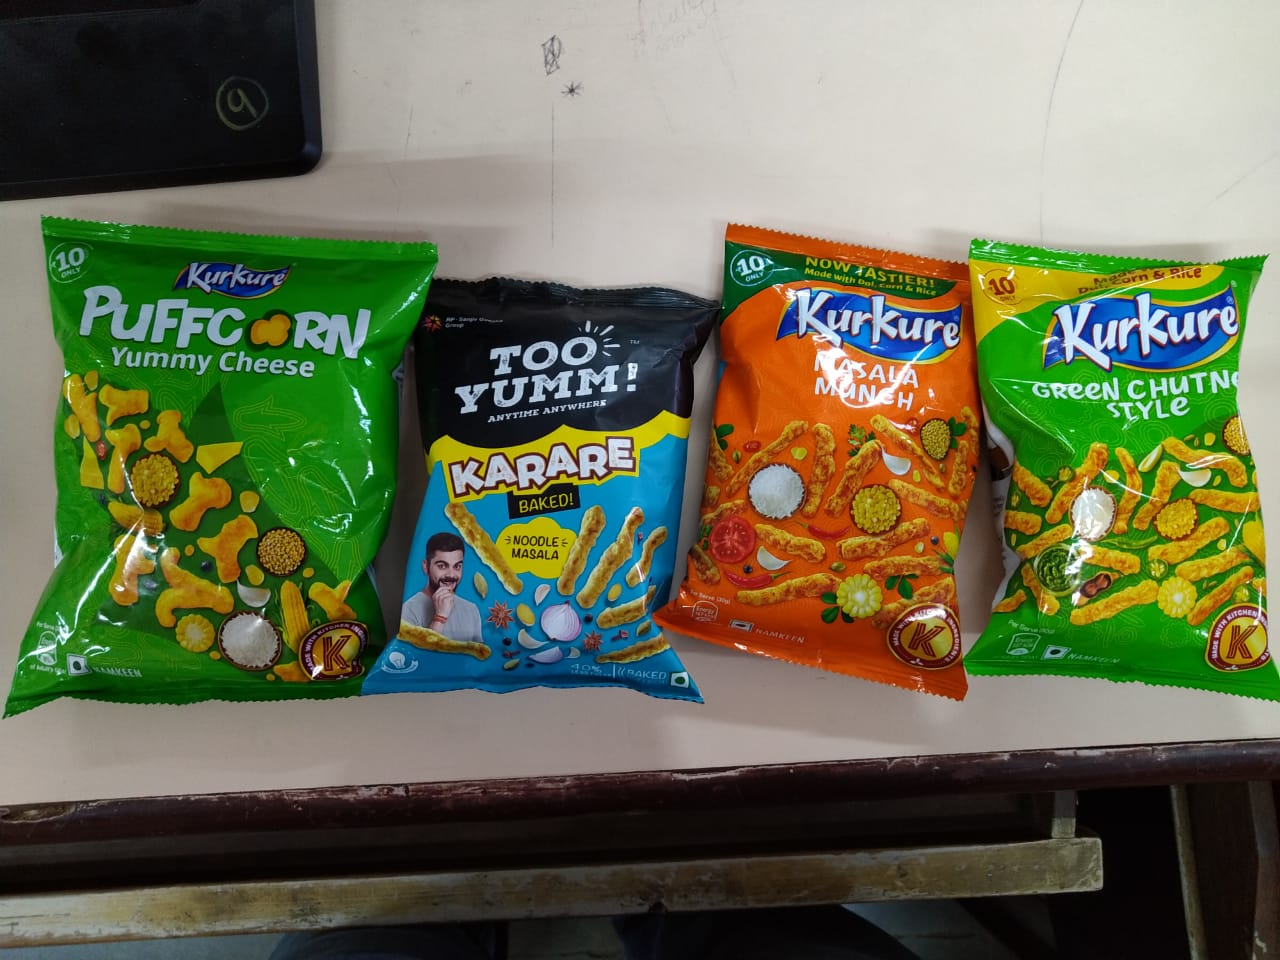kurkure: (1041, 283, 1251, 381), (777, 277, 975, 379), (757, 277, 937, 359), (1063, 301, 1239, 367), (171, 249, 307, 291)
plastic: (15, 228, 1280, 723)
tooyumm: (453, 321, 647, 435), (457, 323, 651, 421)
wrapper: (11, 219, 429, 703), (951, 224, 1280, 689), (693, 197, 989, 713), (387, 257, 723, 707)
